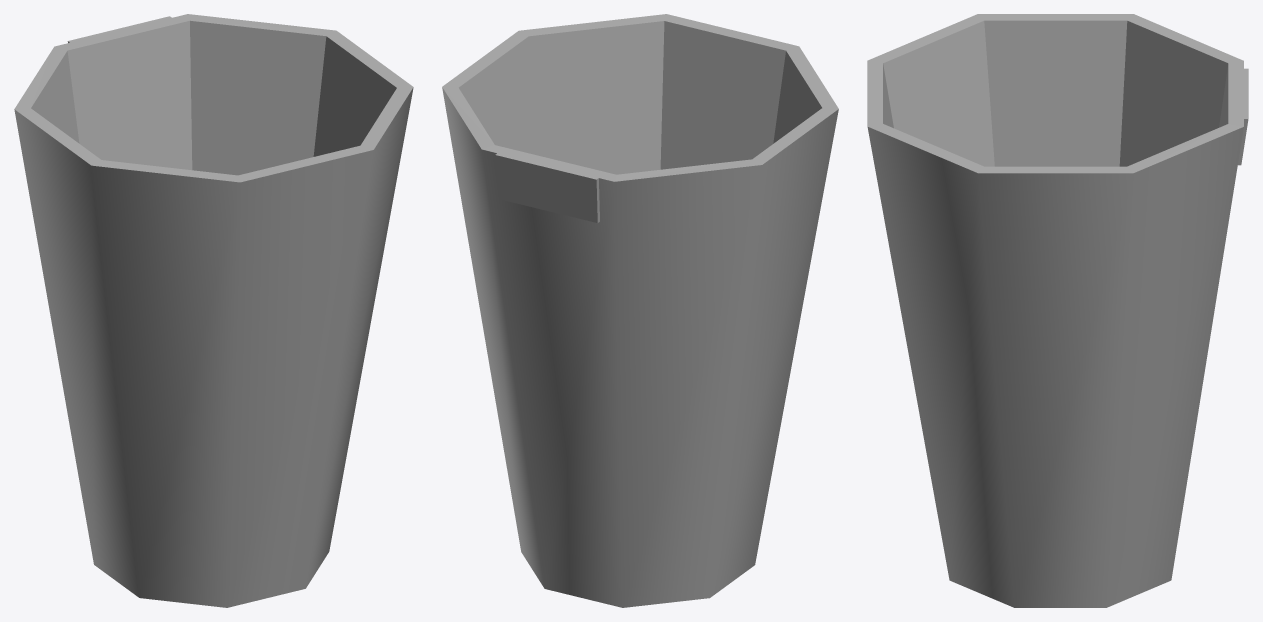
Rendered from Itr_Trashcan3_Body_02.FBX.
3 renders of one model, left to right at view 1: azimuth 30°, elevation 25°; view 2: azimuth 150°, elevation 25°; view 3: azimuth 270°, elevation 25°, orthographic.
Visible parts, largest first — view 1: Itr_Trashcan3_Body_02; view 2: Itr_Trashcan3_Body_02; view 3: Itr_Trashcan3_Body_02.
Part boxes in pixels (<box>): Itr_Trashcan3_Body_02: <box>14,14,413,607</box>; Itr_Trashcan3_Body_02: <box>442,14,838,607</box>; Itr_Trashcan3_Body_02: <box>867,14,1248,607</box>.
Size of the model in its own units: 13.72 by 18.79 by 13.88.
